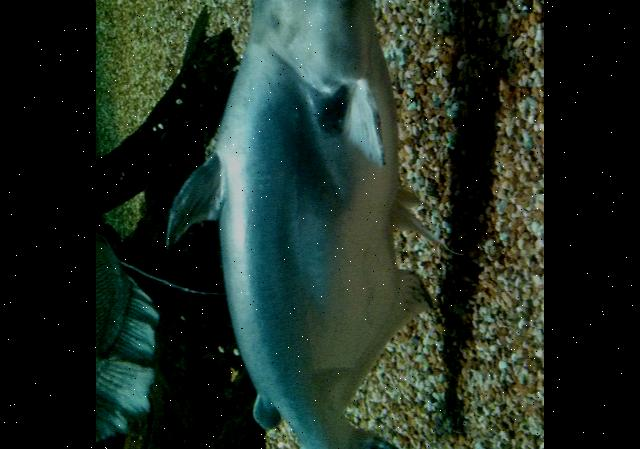Sirip Anal: (334, 258, 438, 410)
Sirip Dada: (320, 68, 404, 172)
Sirip Ekor: (276, 417, 416, 449)
Sirip Perut: (379, 180, 456, 247)
Sirip Punggung: (150, 145, 237, 258)
